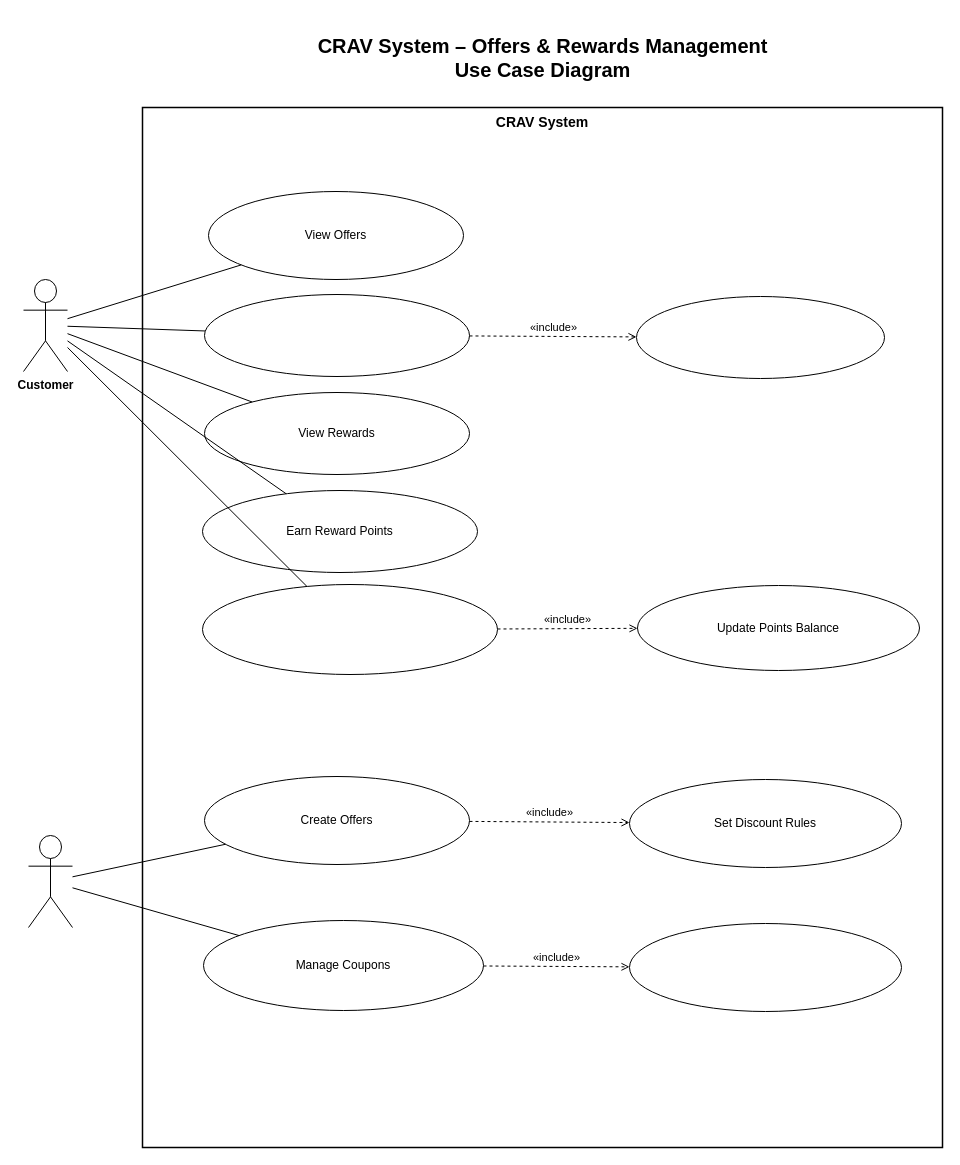
The diagram is 960 pixels wide and 1165 high, and some of its shapes have lost their labels. The shapes that lost their labels are listed below. From the top down, each one's centre as x and y in pixels, then its label:
At pixel 337 335: "Apply Coupon".
At pixel 760 337: "Validate Coupon".
At pixel 350 629: "Redeem Reward Points".
At pixel 50 881: "Admin".
At pixel 765 967: "Manage Validity".
